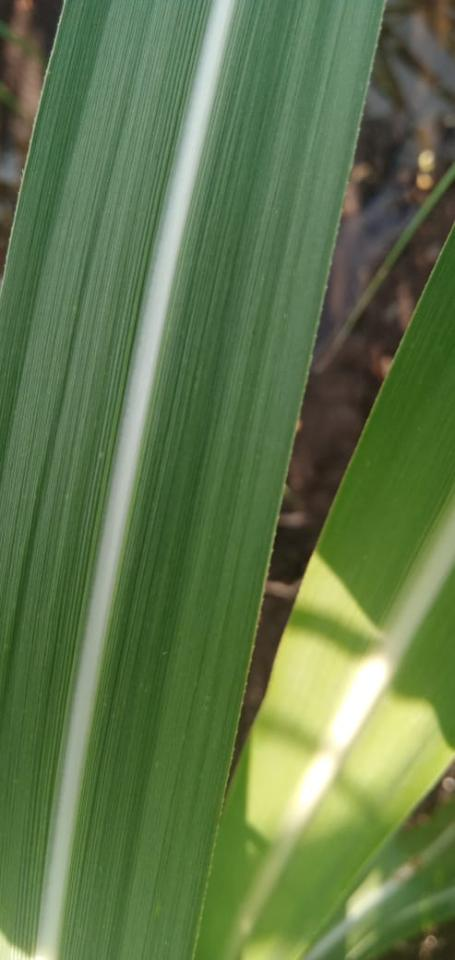Healthy: (62, 0, 388, 959), (0, 0, 209, 959), (192, 244, 454, 959), (243, 568, 454, 959)
